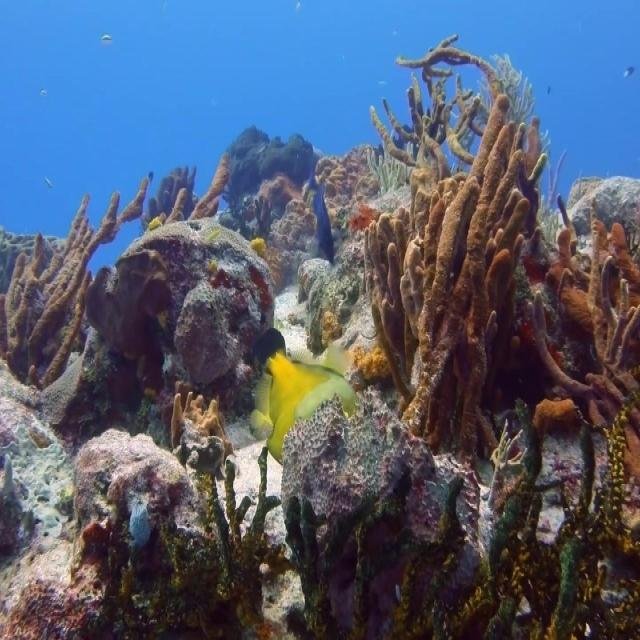fish: (250, 329, 358, 463)
reefs: (362, 94, 529, 466), (0, 178, 150, 390), (532, 219, 639, 481)
